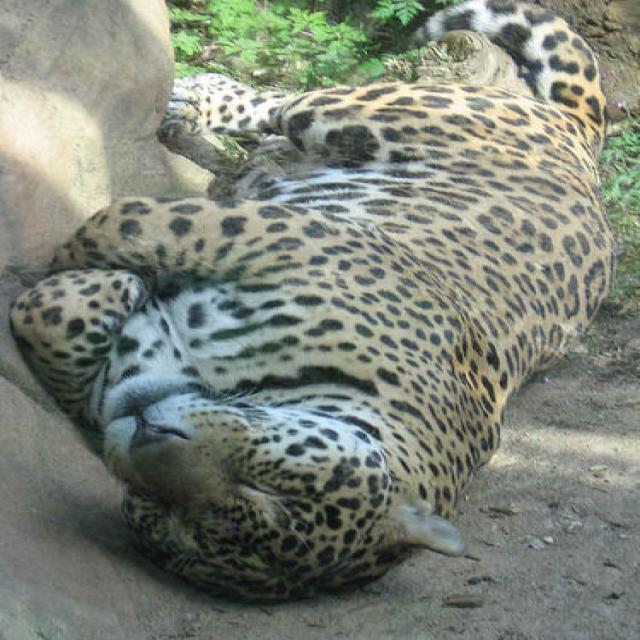Leopard: (7, 0, 613, 607)
